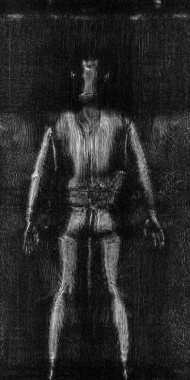gun: (92, 163, 130, 209)
